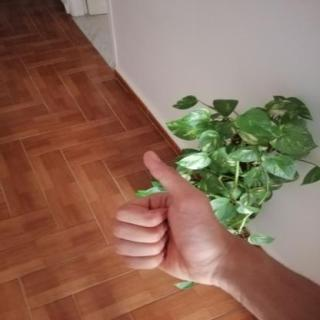ALIF: (92, 137, 240, 295)
